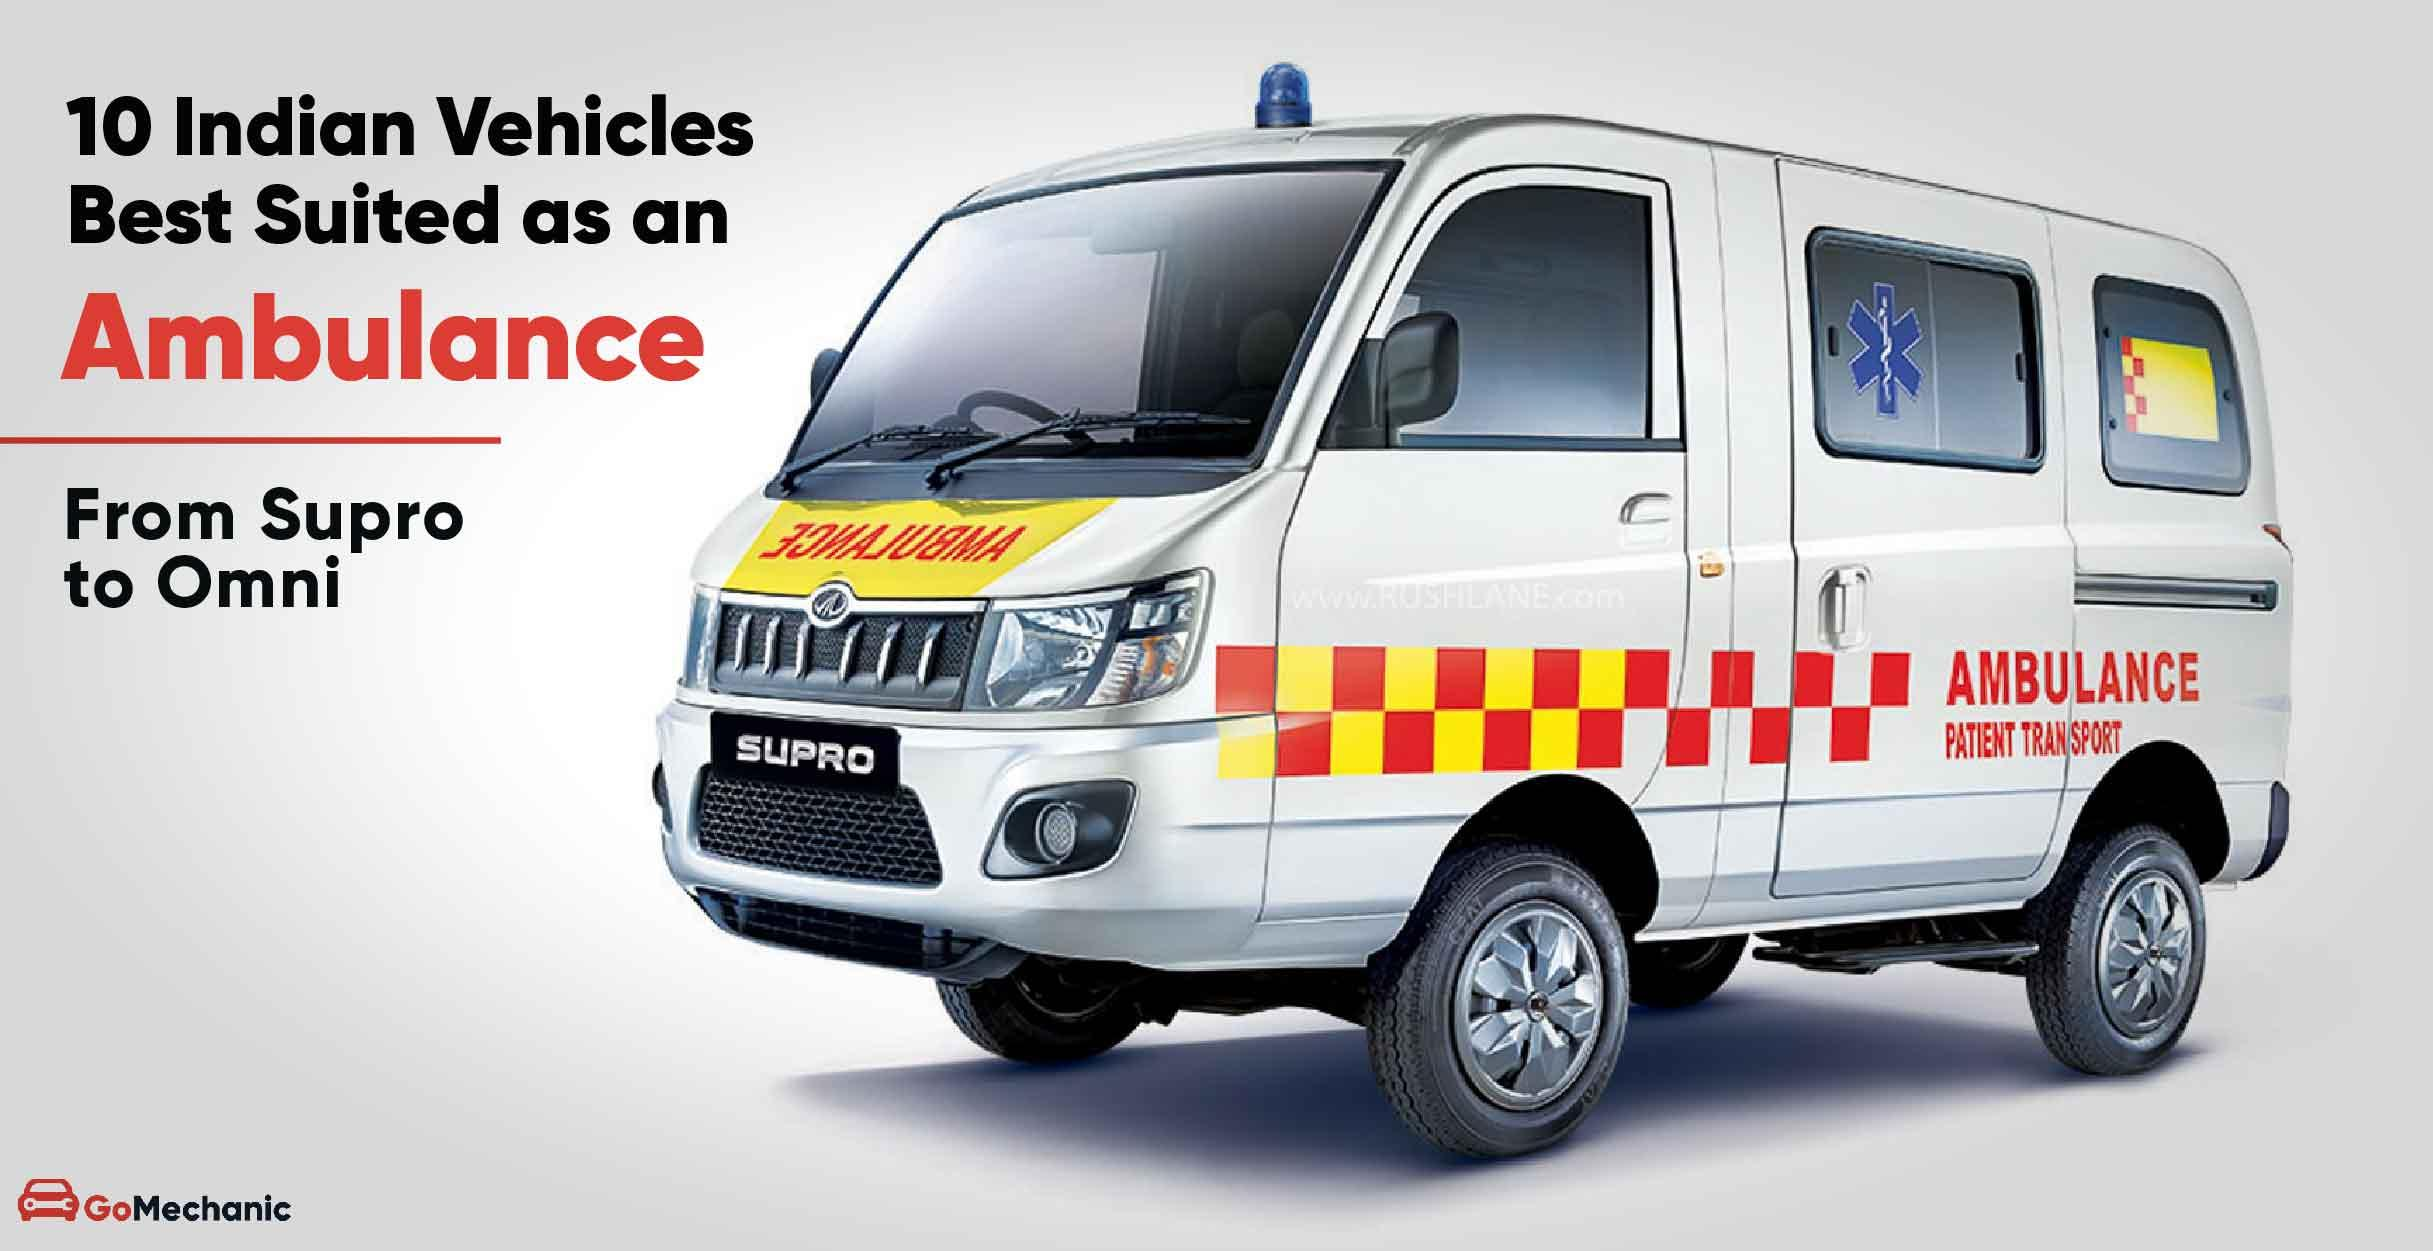van: (651, 113, 2293, 1165)
